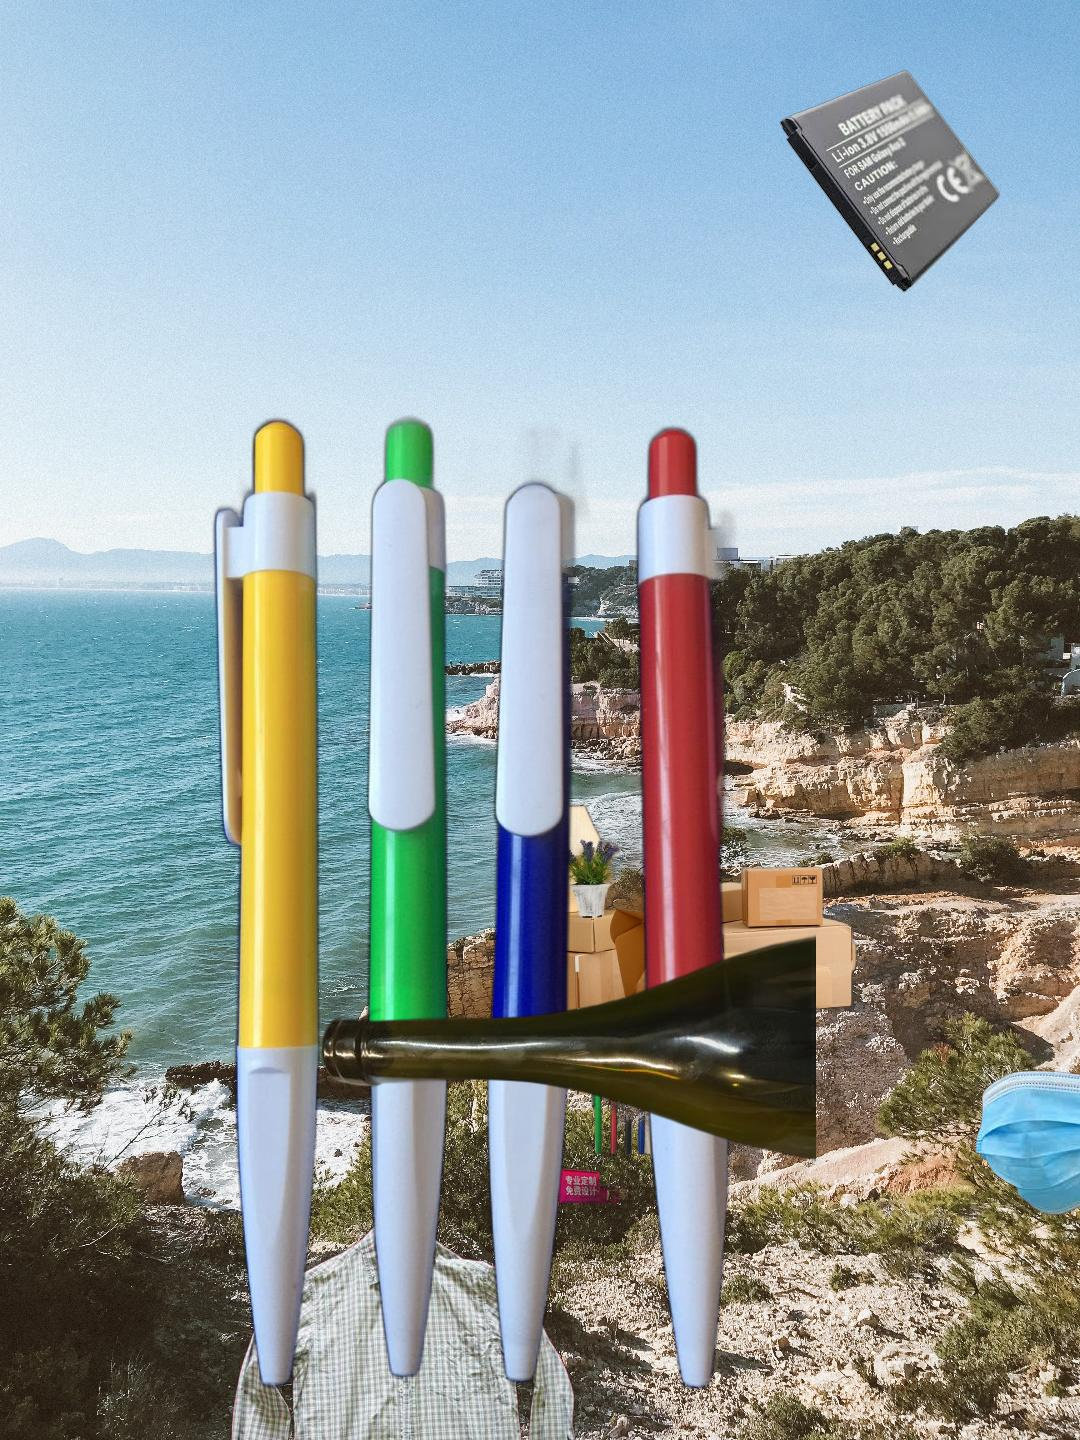battery: (777, 68, 1002, 293)
clothes: (223, 1218, 592, 1440)
glass: (318, 930, 816, 1164)
penholder: (208, 407, 741, 1401), (559, 1053, 709, 1203)
trash: (973, 1068, 1080, 1218)
trashbox-cardboard: (506, 759, 861, 1075)
